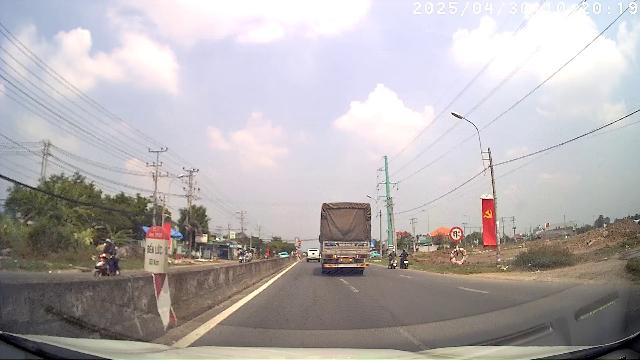124b-cam-oto-quay-dau-xe: (449, 226, 463, 242)
